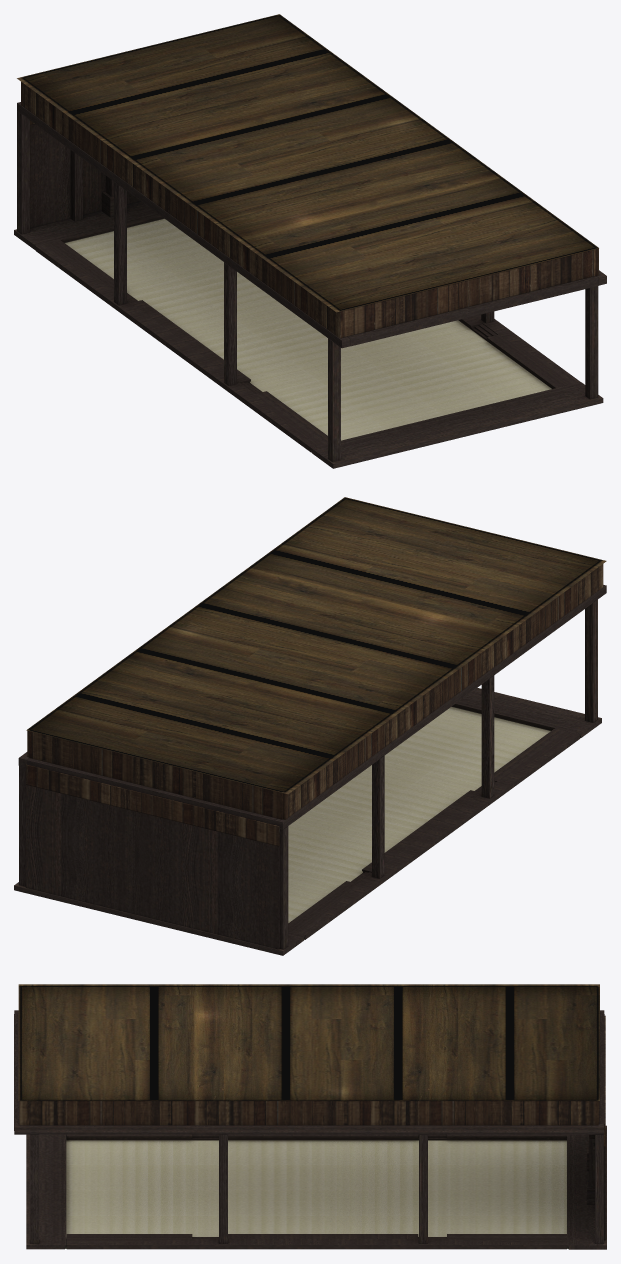
Rendered from DOJO4.fbx.
3 renders of one model, top to bottom at view 1: azimuth 30°, elevation 25°; view 2: azimuth 150°, elevation 25°; view 3: azimuth 270°, elevation 25°, orthographic. The views are drawn at different scales.
Visible parts, largest first — view 1: Dojo; view 2: Dojo; view 3: Dojo.
Boxes of the visible parts, bbox=[...] form: Dojo: bbox=[14, 14, 606, 468]; Dojo: bbox=[14, 497, 606, 955]; Dojo: bbox=[14, 984, 606, 1249].
Size of the model in its own units: 2319 by 1319 by 4833.
